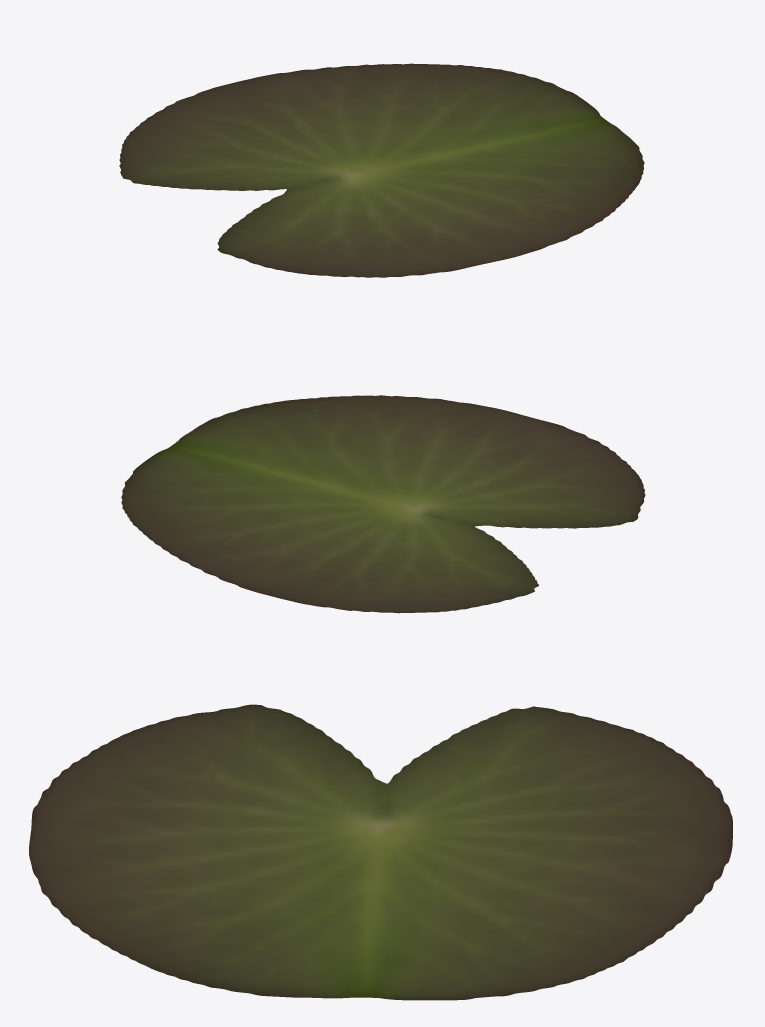
The model's file is lilypad_4.FBX.
The picture shows the model from 3 angles, top to bottom: view 1: azimuth 30°, elevation 25°; view 2: azimuth 150°, elevation 25°; view 3: azimuth 270°, elevation 25°; orthographic projection. The views are drawn at different scales.
Visible parts, largest first — view 1: lilypad_4; view 2: lilypad_4; view 3: lilypad_4.
Boxes of the visible parts, left/top/right/bottom form: lilypad_4: left=119, top=63, right=644, bottom=277; lilypad_4: left=121, top=395, right=645, bottom=613; lilypad_4: left=29, top=704, right=732, bottom=1000.
Bounding box in the file's own units: 35.75 × 1.51e-05 × 33.86.
